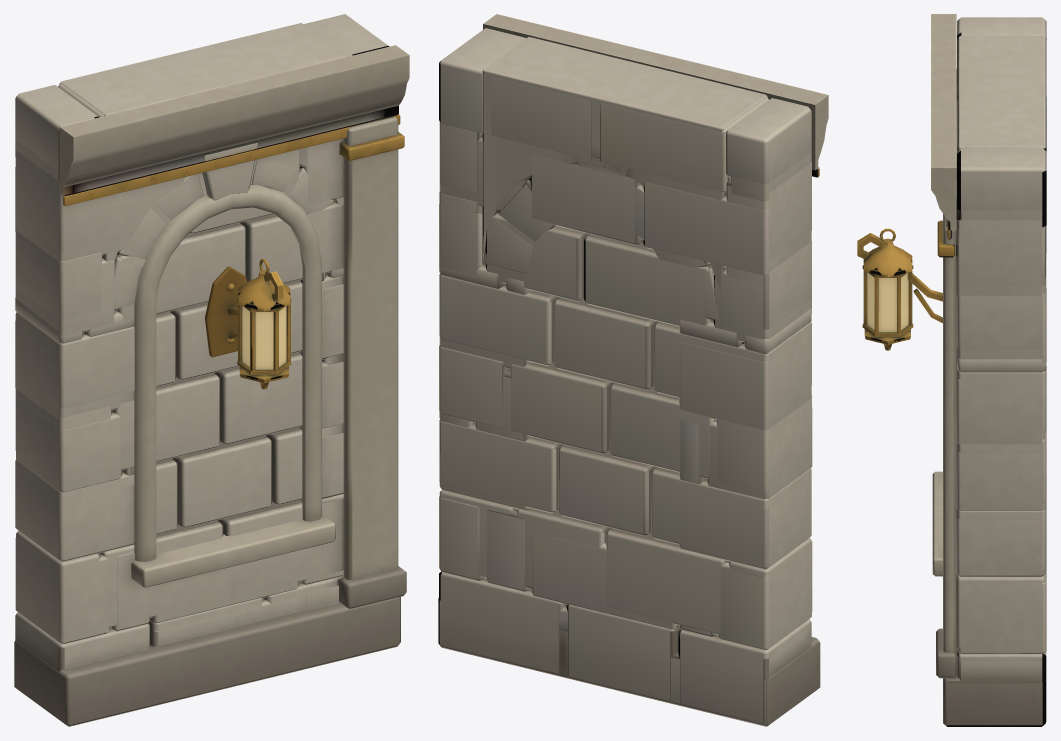
File: env-glass-town.glb
3 renders of one model, left to right at view 1: azimuth 30°, elevation 25°; view 2: azimuth 150°, elevation 25°; view 3: azimuth 270°, elevation 25°, orthographic. The views are drawn at different scales.
Visible parts, largest first — view 1: glass-window, glass-wall, glass-sconce; view 2: glass-wall, glass-window; view 3: glass-window, glass-wall, glass-sconce.
Boxes of the visible parts, x1=… form: glass-window: x1=14, y1=14, x2=409, y2=726; glass-wall: x1=15, y1=14, x2=408, y2=726; glass-sconce: x1=205, y1=258, x2=291, y2=389; glass-wall: x1=438, y1=14, x2=828, y2=726; glass-window: x1=438, y1=14, x2=828, y2=725; glass-window: x1=931, y1=14, x2=1046, y2=725; glass-wall: x1=931, y1=14, x2=1046, y2=726; glass-sconce: x1=857, y1=228, x2=942, y2=350.
Size of the model in its own units: 1.07 by 1.8 by 0.5509.
5 materials, 5 textured.
